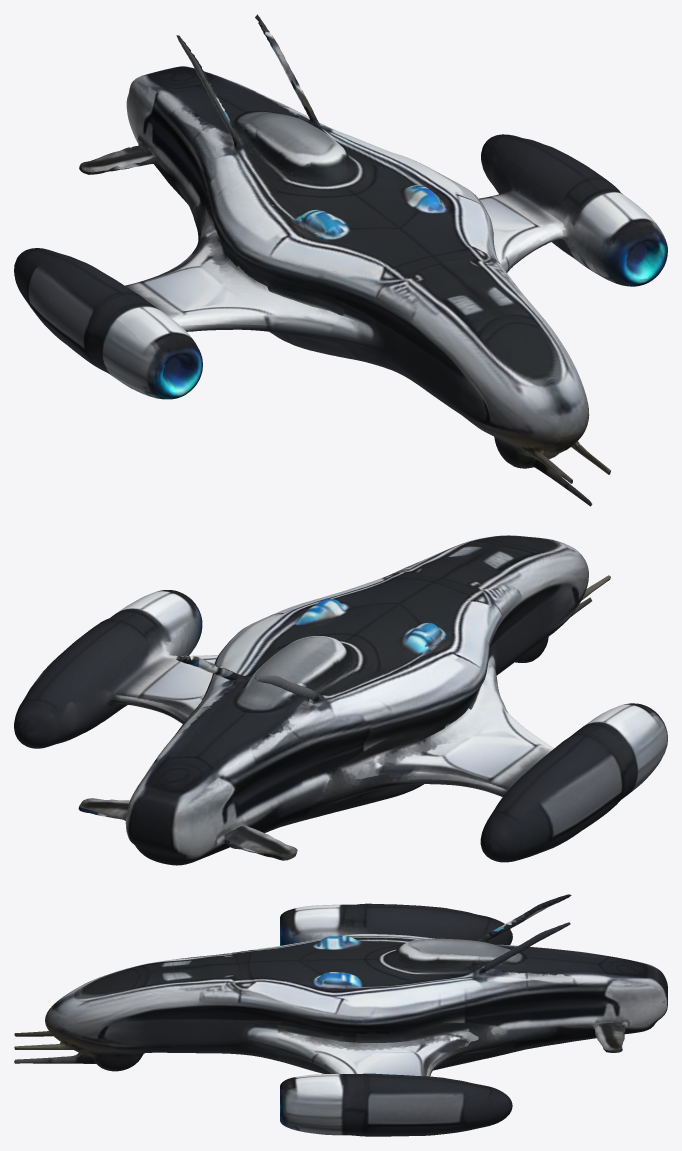
File: neuron.glb
3 views of the same model, one above another, from view 1: azimuth 30°, elevation 25°; view 2: azimuth 150°, elevation 25°; view 3: azimuth 270°, elevation 25° (orthographic). The views are drawn at different scales.
Parts seen in each view (by area): view 1: tmpigiy9_cl.ply; view 2: tmpigiy9_cl.ply; view 3: tmpigiy9_cl.ply.
Part boxes in pixels (bbox=[...]): tmpigiy9_cl.ply: bbox=[14, 14, 667, 506]; tmpigiy9_cl.ply: bbox=[14, 535, 667, 865]; tmpigiy9_cl.ply: bbox=[14, 894, 667, 1136].
Bounding box in the file's own units: 1.38 × 0.5325 × 1.96.
Materials: 1 (1 with a texture image).
